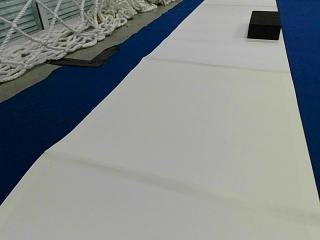block: (247, 10, 281, 39)
